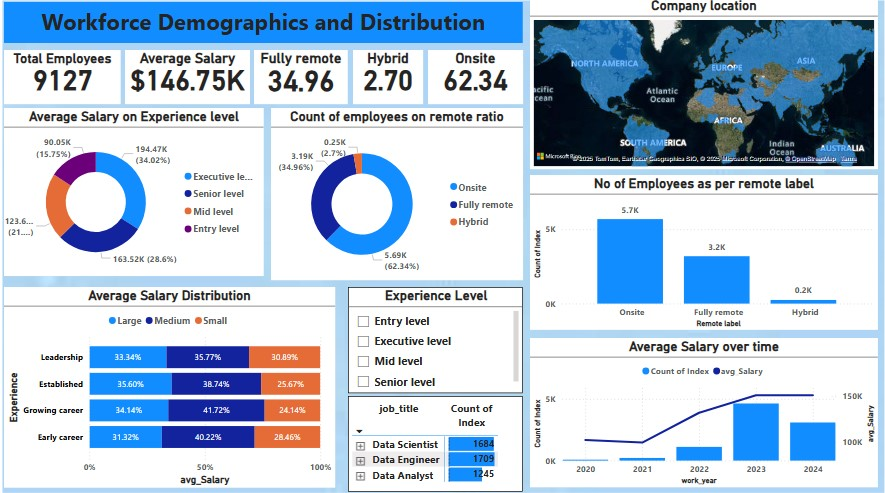

Layout of this report page (visuals, bound fields, positions):
{"tool":"powerbi","page":{"name":"Worksforce","canvas":[1280,720],"ordinal":0},"visuals":[{"type":"image","box":[0,1.4,1280.2,718.6],"z":0},{"type":"textbox","box":[7.2,8.6,747.4,59],"z":1000},{"type":"hundredPercentStackedBarChart","title":"Average Salary Distribution","fields":{"Series":["DataScience_salaries_2024.company_size"],"Category":["DataScience_salaries_2024.Experience"],"Y":["DataScience_salaries_2024.avg_Salary"]},"box":[7.2,419,476.6,289.4],"z":2000},{"type":"filledMap","title":"Company location","fields":{"Category":["DataScience_salaries_2024.employee_residence"]},"box":[764.6,1.4,501.1,247.7],"z":3000},{"type":"donutChart","title":"Average Salary on Experience level","fields":{"Category":["DataScience_salaries_2024.experience_level"],"Y":["DataScience_salaries_2024.avg_Salary"]},"box":[7.2,161.3,374.4,241.9],"z":4000},{"type":"donutChart","title":"Count of employees on remote ratio","fields":{"Y":["CountNonNull(DataScience_salaries_2024.employment_type)"],"Category":["DataScience_salaries_2024.Remote label"]},"box":[391.7,161.3,362.9,247.7],"z":5000},{"type":"clusteredColumnChart","title":"No of Employees as per remote label","fields":{"Category":["DataScience_salaries_2024.Remote label"],"Y":["CountNonNull(DataScience_salaries_2024.Index)"]},"box":[764.6,257.8,501.1,223.2],"z":6000},{"type":"card","title":"Total Employees","fields":{"Values":["CountNonNull(DataScience_salaries_2024.Index)"]},"box":[7.2,77.8,168.5,77.8],"z":7000},{"type":"card","title":"Average Salary","fields":{"Values":["DataScience_salaries_2024.avg_Salary"]},"box":[181.4,77.8,180,77.8],"z":8000},{"type":"lineClusteredColumnComboChart","title":"Average Salary over time","fields":{"Y2":["DataScience_salaries_2024.avg_Salary"],"Category":["DataScience_salaries_2024.work_year"],"Y":["CountNonNull(DataScience_salaries_2024.Index)"]},"box":[764.6,492.5,501.1,214.6],"z":9000},{"type":"card","title":"Fully remote","fields":{"Values":["DataScience_salaries_2024.Remote_100_%"]},"box":[367.2,77.8,135.4,77.8],"z":10000},{"type":"card","title":"Onsite","fields":{"Values":["DataScience_salaries_2024.Remote_0_%"]},"box":[617.8,77.8,136.8,77.8],"z":11000},{"type":"card","title":"Hybrid","fields":{"Values":["DataScience_salaries_2024.Remote_50_%"]},"box":[509.8,77.8,100.8,77.8],"z":12000},{"type":"slicer","title":"Experience Level","fields":{"Values":["DataScience_salaries_2024.experience_level"]},"box":[502.6,419,252,152.6],"z":13000},{"type":"pivotTable","fields":{"Rows":["DataScience_salaries_2024.job_title","DataScience_salaries_2024.work_year"],"Values":["CountNonNull(DataScience_salaries_2024.Index)"]},"box":[502.6,576,252,138.2],"z":14000}]}

Visuals, with their boxes in screenshot pixels (x1, y1, x2, y2), scaled from the page's 1280x720 canvas onto the 885x493 screenshot:
image: bbox(0, 1, 884, 492)
textbox: bbox(5, 6, 522, 46)
"Average Salary Distribution" hundredPercentStackedBarChart: bbox(5, 287, 335, 485)
"Company location" filledMap: bbox(529, 1, 875, 171)
"Average Salary on Experience level" donutChart: bbox(5, 110, 264, 276)
"Count of employees on remote ratio" donutChart: bbox(271, 110, 522, 280)
"No of Employees as per remote label" clusteredColumnChart: bbox(529, 177, 875, 329)
"Total Employees" card: bbox(5, 53, 121, 107)
"Average Salary" card: bbox(125, 53, 250, 107)
"Average Salary over time" lineClusteredColumnComboChart: bbox(529, 337, 875, 484)
"Fully remote" card: bbox(254, 53, 348, 107)
"Onsite" card: bbox(427, 53, 522, 107)
"Hybrid" card: bbox(352, 53, 422, 107)
"Experience Level" slicer: bbox(348, 287, 522, 391)
pivotTable - DataScience_salaries_2024.job_title x DataScience_salaries_2024.work_year: bbox(348, 394, 522, 489)
